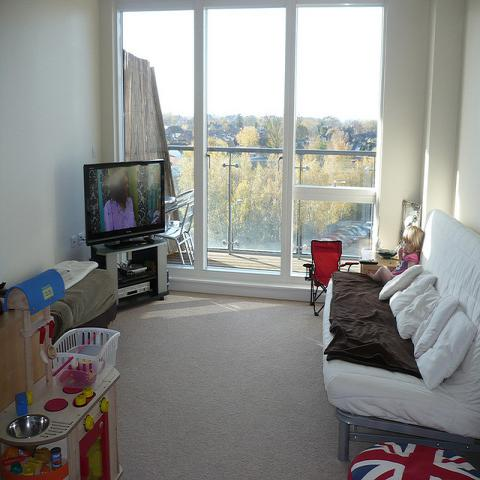car: (318, 237, 350, 250), (332, 228, 359, 242), (347, 225, 367, 238), (346, 227, 362, 240), (338, 235, 352, 245), (363, 222, 371, 233), (353, 224, 364, 230)
